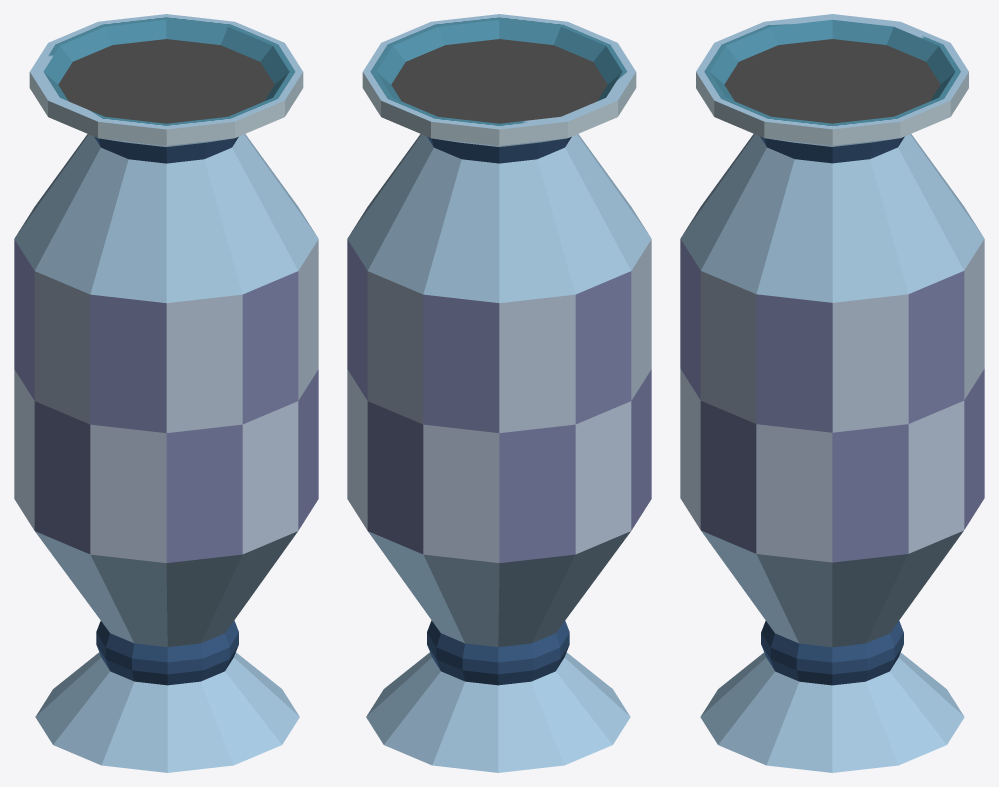
Rendered from Museum_Blue_Vase.fbx.
The picture shows the model from 3 angles, left to right: view 1: azimuth 30°, elevation 25°; view 2: azimuth 150°, elevation 25°; view 3: azimuth 270°, elevation 25°; orthographic projection.
Parts seen in each view (by area): view 1: Circle; view 2: Circle; view 3: Circle.
Part boxes in pixels (x1=…): Circle: x1=14, y1=14, x2=318, y2=772; Circle: x1=347, y1=14, x2=651, y2=772; Circle: x1=680, y1=14, x2=984, y2=772.
Bounding box in the file's own units: 36.34 × 85.01 × 36.34.
